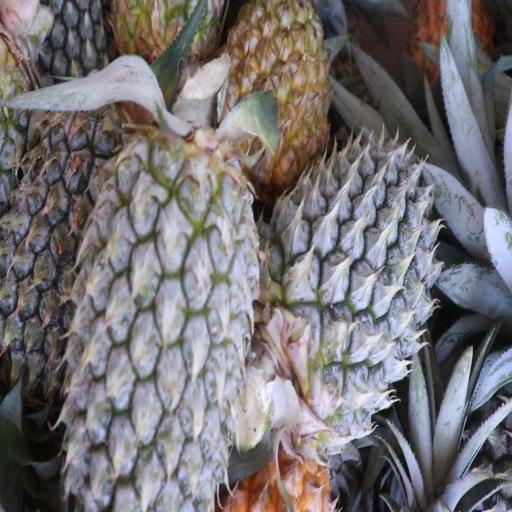Pineapple - v8 v1: (223, 0, 330, 182)
